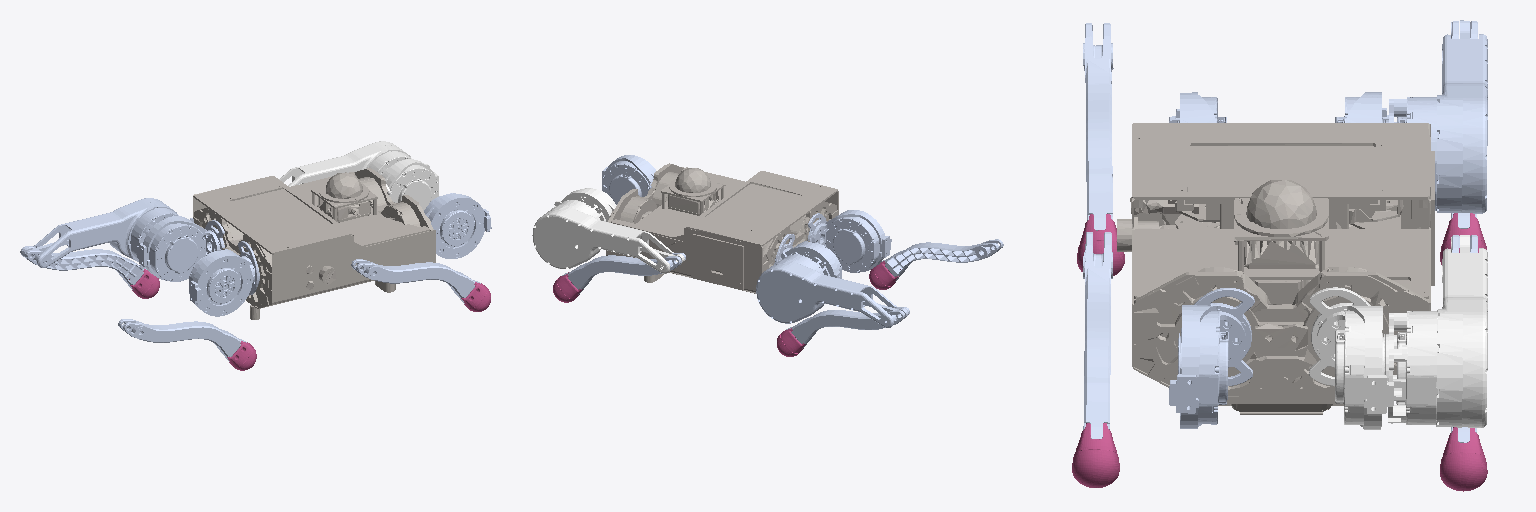
The robot description file, URDF, robot "white.SLDASM":
<?xml version="1.0" encoding="utf-8"?>
<!-- This URDF was automatically created by SolidWorks to URDF Exporter! Originally created by Stephen Brawner (brawner@gmail.com) 
     Commit Version: 1.6.0-4-g7f85cfe  Build Version: 1.6.7995.38578
     For more information, please see http://wiki.ros.org/sw_urdf_exporter -->
<robot
  name="white.SLDASM">
  <link
    name="base_link">
    <inertial>
      <origin
        xyz="0.0010530 0.0016701 0.0648869"
        rpy="0 0 0" />
      <mass
        value="6.1866546" />
      <inertia
        ixx="0.0337456"
        ixy="0.0003253"
        ixz="0.0029974"
        iyy="0.0744710"
        iyz="0.0000989"
        izz="0.0915742" />
    </inertial>
    <visual>
      <origin
        xyz="0 0 0"
        rpy="0 0 0" />
      <geometry>
        <mesh
          filename="meshes/base_link.STL" />
      </geometry>
      <material
        name="">
        <color
          rgba="0.776470588235294 0.756862745098039 0.737254901960784 1" />
      </material>
    </visual>
    <collision>
      <origin
        xyz="0 0 0"
        rpy="0 0 0" />
      <geometry>
        <mesh
          filename="meshes/base_link.STL" />
      </geometry>
    </collision>
  </link>
  <link
    name="FR_hip_link">
    <inertial>
      <origin
        xyz="0.0931494 -0.0135031 0.0004711"
        rpy="0 0 0" />
      <mass
        value="0.7306389" />
      <inertia
        ixx="0.0005555"
        ixy="0.0000790"
        ixz="-0.0000028"
        iyy="0.0011581"
        iyz="-0.0000078"
        izz="0.0007923" />
    </inertial>
    <visual>
      <origin
        xyz="0 0 0"
        rpy="0 0 0" />
      <geometry>
        <mesh
          filename="meshes/FR_hip_link.STL" />
      </geometry>
      <material
        name="">
        <color
          rgba="0.86667 0.9098 1 1" />
      </material>
    </visual>
    <collision>
      <origin
        xyz="0 0 0"
        rpy="0 0 0" />
      <geometry>
        <mesh
          filename="meshes/FR_hip_link.STL" />
      </geometry>
    </collision>
  </link>
  <joint
    name="FR_hip_joint"
    type="revolute">
    <origin
      xyz="0.12796 -0.054714 0.057844"
      rpy="0 0 0" />
    <parent
      link="base_link" />
    <child
      link="FR_hip_link" />
    <axis
      xyz="-1 0 0" />
    <limit
      lower="-0.5"
      upper="0.45"
      effort="23.7"
      velocity="30" />
  </joint>
  <link
    name="FR_thigh_link">
    <inertial>
      <origin
        xyz="-0.0304027 0.0032637 0.0817565"
        rpy="0 0 0" />
      <mass
        value="1.2467607" />
      <inertia
        ixx="0.0012543"
        ixy="0.0003927"
        ixz="0.0007287"
        iyy="0.0055865"
        iyz="-0.0000961"
        izz="0.0055776" />
    </inertial>
    <visual>
      <origin
        xyz="0 0 0"
        rpy="0 0 0" />
      <geometry>
        <mesh
          filename="meshes/FR_thigh_link.STL" />
      </geometry>
      <material
        name="">
        <color
          rgba="0.86667 0.9098 1 1" />
      </material>
    </visual>
    <collision>
      <origin
        xyz="0 0 0"
        rpy="0 0 0" />
      <geometry>
        <mesh
          filename="meshes/FR_thigh_link.STL" />
      </geometry>
    </collision>
  </link>
  <joint
    name="FR_thigh_joint"
    type="revolute">
    <origin
      xyz="0.099716 0.001431 0.00042649"
      rpy="1.5505 0 0" />
    <parent
      link="FR_hip_link" />
    <child
      link="FR_thigh_link" />
    <axis
      xyz="0 0 1" />
    <limit
      lower="-0.2"  
      upper="2.2"
      effort="23.7"
      velocity="30" />
  </joint>
  <link
    name="FR_calf_link">
    <inertial>
      <origin
        xyz="0.0842078 -0.0284990 -0.0127665"
        rpy="0 0 0" />
      <mass
        value="0.1522685" />
      <inertia
        ixx="0.0001159"
        ixy="0.0002501"
        ixz="-0.0000023"
        iyy="0.0007045"
        iyz="0.0000004"
        izz="0.0008061" />
    </inertial>
    <visual>
      <origin
        xyz="0 0 0"
        rpy="0 0 0" />
      <geometry>
        <mesh
          filename="meshes/FR_calf_link.STL" />
      </geometry>
      <material
        name="">
        <color
          rgba="0.86667 0.9098 1 1" />
      </material>
    </visual>
    <collision>
      <origin
        xyz="0 0 0"
        rpy="0 0 0" />
      <geometry>
        <mesh
          filename="meshes/FR_calf_link.STL" />
      </geometry>
    </collision>
  </link>
  <joint
    name="FR_calf_joint"
    type="revolute">
    <origin
      xyz="-0.1999162 -0.00030453 0.1159"
      rpy="0 0 0" />
    <parent
      link="FR_thigh_link" />
    <child
      link="FR_calf_link" />
    <axis
      xyz="0 0 -1" />
    <limit
      lower="0"
      upper="1.6"
      effort="27.6"
      velocity="25.7" />
  </joint>
  <link
    name="FL_hip_link">
    <inertial>
      <origin
        xyz="0.0931494 0.0130746 -0.0004511"
        rpy="0 0 0" />
      <mass
        value="0.7306389" />
      <inertia
        ixx="0.0005555"
        ixy="-0.0000790"
        ixz="0.0000019"
        iyy="0.0011582"
        iyz="-0.0000040"
        izz="0.0007922" />
    </inertial>
    <visual>
      <origin
        xyz="0 0 0"
        rpy="0 0 0" />
      <geometry>
        <mesh
          filename="meshes/FL_hip_link.STL" />
      </geometry>
      <material
        name="">
        <color
          rgba="1 1 1 1" />
      </material>
    </visual>
    <collision>
      <origin
        xyz="0 0 0"
        rpy="0 0 0" />
      <geometry>
        <mesh
          filename="meshes/FL_hip_link.STL" />
      </geometry>
    </collision>
  </link>
  <joint
    name="FL_hip_joint"
    type="revolute">
    <origin
      xyz="0.12796 0.055167 0.058275"
      rpy="0 0 0" />
    <parent
      link="base_link" />
    <child
      link="FL_hip_link" />
    <axis
      xyz="1 0 0" />
    <limit
      lower="-0.5"
      upper="0.45"
      effort="23.7"
      velocity="30" />
  </joint>
  <link
    name="FL_thigh_link">
    <inertial>
      <origin
        xyz="-0.039619 -0.0049865 0.08263"
        rpy="0 0 0" />
      <mass
        value="1.2345657" />
      <inertia
        ixx="0.0012490"
        ixy="-0.0003775"
        ixz="0.0007307"
        iyy="0.0054967"
        iyz="0.0000916"
        izz="0.0054849" />
    </inertial>
    <visual>
      <origin
        xyz="0 0 0"
        rpy="0 0 0" />
      <geometry>
        <mesh
          filename="meshes/FL_thigh_link.STL" />
      </geometry>
      <material
        name="">
        <color
          rgba="1 1 1 1" />
      </material>
    </visual>
    <collision>
      <origin
        xyz="0 0 0"
        rpy="0 0 0" />
      <geometry>
        <mesh
          filename="meshes/FL_thigh_link.STL" />
      </geometry>
    </collision>
  </link>
  <joint
    name="FL_thigh_joint"
    type="revolute">
    <origin
      xyz="0.099716 -0.0018591 -0.00056296"
      rpy="-1.5806 0 0" />
    <parent
      link="FL_hip_link" />
    <child
      link="FL_thigh_link" />
    <axis
      xyz="0 0 -1" />
    <limit
      lower="-0.2"
      upper="2.2"
      effort="23.7"
      velocity="30" />
  </joint>
  <link
    name="FL_calf_link">
        <inertial>
      <origin
        xyz="0.0845350 0.0285958 -0.0004998"
        rpy="0 0 0" />
      <mass
        value="0.3025376" />
      <inertia
        ixx="0.0002688"
        ixy="-0.0004978"
        ixz="0.0000000"
        iyy="0.0014403"
        iyz="0.0000000"
        izz="0.0016047" />
    </inertial>
    <visual>
      <origin
        xyz="0 0 0"
        rpy="0 0 0" />
      <geometry>
        <mesh
          filename="meshes/FL_calf_link.STL" />
      </geometry>
      <material
        name="">
        <color
          rgba="0.86667 0.9098 1 1" />
      </material>
    </visual>
    <collision>
      <origin
        xyz="0 0 0"
        rpy="0 0 0" />
      <geometry>
        <mesh
          filename="meshes/FL_calf_link.STL" />
      </geometry>
    </collision>
  </link>
  <joint
    name="FL_calf_joint"
    type="revolute">
    <origin
      xyz="-0.19992 -0.00030453 0.1148"
      rpy="0 0 0" />
    <parent
      link="FL_thigh_link" />
    <child
      link="FL_calf_link" />
    <axis
      xyz="0 0 1" />
    <limit
      lower="0"
      upper="1.6"
      effort="27.6"
      velocity="25.7" />
  </joint>
  <link
    name="RL_hip_link">
    <inertial>
      <origin
        xyz="-0.0932918 0.0135062 0.0000247"
        rpy="0 0 0" />
      <mass
        value="0.7306389" />
      <inertia
        ixx="0.0005555"
        ixy="0.0000776"
        ixz="0.0000002"
        iyy="0.0011596"
        iyz="-0.0000027"
        izz="0.0007935" />
    </inertial>
    <visual>
      <origin
        xyz="0 0 0"
        rpy="0 0 0" />
      <geometry>
        <mesh
          filename="meshes/RL_hip_link.STL" />
      </geometry>
      <material
        name="">
        <color
          rgba="0.86667 0.9098 1 1" />
      </material>
    </visual>
    <collision>
      <origin
        xyz="0 0 0"
        rpy="0 0 0" />
      <geometry>
        <mesh
          filename="meshes/RL_hip_link.STL" />
      </geometry>
    </collision>
  </link>
  <joint
    name="RL_hip_joint"
    type="revolute">
    <origin
      xyz="-0.10064 0.054736 0.057844"
      rpy="0 0 0" />
    <parent
      link="base_link" />
    <child
      link="RL_hip_link" />
    <axis
      xyz="1 0 0" />
    <limit
      lower="-0.5"
      upper="0.45"
      effort="23.7"
      velocity="30" />
  </joint>
  <link
    name="RL_thigh_link">
    <inertial>
      <origin
        xyz="-0.0299452 -0.0010392 -0.1883155"
        rpy="0 0 0" />
      <mass
        value="1.2345657" />
      <inertia
        ixx="0.0012472"
        ixy="0.0003478"
        ixz="-0.0007436"
        iyy="0.0055031"
        iyz="0.0000794"
        izz="0.0054797" />
    </inertial>
    <visual>
      <origin
        xyz="0 0 0"
        rpy="0 0 0" />
      <geometry>
        <mesh
          filename="meshes/RL_thigh_link.STL" />
      </geometry>
      <material
        name="">
        <color
          rgba="0.86667 0.9098 1 1" />
      </material>
    </visual>
    <collision>
      <origin
        xyz="0 0 0"
        rpy="0 0 0" />
      <geometry>
        <mesh
          filename="meshes/RL_thigh_link.STL" />
      </geometry>
    </collision>
  </link>
  <joint
    name="RL_thigh_joint"
    type="revolute">
    <origin
      xyz="-0.099616 -0.10802 -0.00010828"
      rpy="1.5945 0 0" />
    <parent
      link="RL_hip_link" />
    <child
      link="RL_thigh_link" />
    <axis
      xyz="0 0 1" />
    <limit
      lower="-0.1"
      upper="2.2"
      effort="23.7"
      velocity="30" />
  </joint>
  <link
    name="RL_calf_link">
    <inertial>
      <origin
        xyz="0.0844350 -0.0345725 -0.3078581"
        rpy="0 0 0" />
      <mass
        value="0.3025376" />
      <inertia
        ixx="0.0002688"
        ixy="0.0004976"
        ixz="-0.0000150"
        iyy="0.0014404"
        iyz="0.0000049"
        izz="0.0016045" />
    </inertial>
    <visual>
      <origin
        xyz="0 0 0"
        rpy="0 0 0" />
      <geometry>
        <mesh
          filename="meshes/RL_calf_link.STL" />
      </geometry>
      <material
        name="">
        <color
          rgba="0.86667 0.9098 1 1" />
      </material>
    </visual>
    <collision>
      <origin
        xyz="0 0 0"
        rpy="0 0 0" />
      <geometry>
        <mesh
          filename="meshes/RL_calf_link.STL" />
      </geometry>
    </collision>
  </link>
  <joint
    name="RL_calf_joint"
    type="revolute">
    <origin
      xyz="-0.20008 0.00030453 0.0879"
      rpy="0 0 0" />
    <parent
      link="RL_thigh_link" />
    <child
      link="RL_calf_link" />
    <axis
      xyz="0 0 -1" />
    <limit
      lower="0"
      upper="1.6"
      effort="27.6"
      velocity="25.7" />
  </joint>
  <link
    name="RR_hip_link">
    <inertial>
      <origin
        xyz="-0.0930399 -0.0130709 -0.0006344"
        rpy="0 0 0" />
      <mass
        value="0.7306389" />
      <inertia
        ixx="0.0005555"
        ixy="-0.0000787"
        ixz="-0.0000030"
        iyy="0.0011560"
        iyz="0.0000090"
        izz="0.0007903" />
    </inertial>
    <visual>
      <origin
        xyz="0 0 0"
        rpy="0 0 0" />
      <geometry>
        <mesh
          filename="meshes/RR_hip_link.STL" />
      </geometry>
      <material
        name="">
        <color
          rgba="0.86667 0.9098 1 1" />
      </material>
    </visual>
    <collision>
      <origin
        xyz="0 0 0"
        rpy="0 0 0" />
      <geometry>
        <mesh
          filename="meshes/RR_hip_link.STL" />
      </geometry>
    </collision>
  </link>
  <joint
    name="RR_hip_joint"
    type="revolute">
    <origin
      xyz="-0.10064 -0.055145 0.058275"
      rpy="0 0 0" />
    <parent
      link="base_link" />
    <child
      link="RR_hip_link" />
    <axis
      xyz="-1 0 0" />
    <limit
      lower="-0.5"
      upper="0.45"
      effort="23.7"
      velocity="30" />
  </joint>
  <link
    name="RR_thigh_link">
    <inertial>
      <origin
        xyz="-0.0302807 -0.0022897 -0.1884243"
        rpy="0 0 0" />
      <mass
        value="1.2467607" />
      <inertia
        ixx="0.0012514"
        ixy="-0.0003635"
        ixz="-0.0007396"
        iyy="0.0055918"
        iyz="-0.0000806"
        izz="0.0055723" />
    </inertial>
    <visual>
      <origin
        xyz="0 0 0"
        rpy="0 0 0" />
      <geometry>
        <mesh
          filename="meshes/RR_thigh_link.STL" />
      </geometry>
      <material
        name="">
        <color
          rgba="1 1 1 1" />
      </material>
    </visual>
    <collision>
      <origin
        xyz="0 0 0"
        rpy="0 0 0" />
      <geometry>
        <mesh
          filename="meshes/RR_thigh_link.STL" />
      </geometry>
    </collision>
  </link>
  <joint
    name="RR_thigh_joint"
    type="revolute">
    <origin
      xyz="-0.099884 0.10845 -0.00056871"
      rpy="-1.5708 0 0" />
    <parent
      link="RR_hip_link" />
    <child
      link="RR_thigh_link" />
    <axis
      xyz="0 -0.006426 -0.99998" />
    <limit
      lower="-0.1"
      upper="2.2"
      effort="23.7"
      velocity="30" />
  </joint>
  <link
    name="RR_calf_link">
        <inertial>
      <origin
        xyz="0.0843078 0.0322450 -0.3247279"
        rpy="0 0 0" />
      <mass
        value="0.1522686" />
      <inertia
        ixx="0.0001159"
        ixy="-0.0002500"
        ixz="-0.0000052"
        iyy="0.0007045"
        iyz="-0.0000027"
        izz="0.0008061" />
    </inertial>
    <visual>
      <origin
        xyz="0 0 0"
        rpy="0 0 0" />
      <geometry>
        <mesh
          filename="meshes/RR_calf_link.STL" />
      </geometry>
      <material
        name="">
        <color
          rgba="0.86667 0.9098 1 1" />
      </material>
    </visual>
    <collision>
      <origin
        xyz="0 0 0"
        rpy="0 0 0" />
      <geometry>
        <mesh
          filename="meshes/RR_calf_link.STL" />
      </geometry>
    </collision>
  </link>
  <joint
    name="RR_calf_joint"
    type="revolute">
    <origin
      xyz="-0.19992 0.0004397 0.1159"
      rpy="-0.0064261 0 0" />
    <parent
      link="RR_thigh_link" />
    <child
      link="RR_calf_link" />
    <axis
      xyz="0 0 1" />
    <limit
      lower="0"
      upper="1.6"
      effort="27.6"
      velocity="25.7" />
  </joint>
  <link
    name="FR_toe_link">
    <inertial>
      <origin
        xyz="-0.0123860505147512 0.000456648613375327 0.00967494848412119"
        rpy="0 0 0" />
      <mass
        value="0.0495450118181645" />
      <inertia
        ixx="1.05300403015409E-05"
        ixy="-6.13483508873057E-08"
        ixz="-2.57407656381207E-07"
        iyy="1.22062426260108E-05"
        iyz="1.10904644871756E-07"
        izz="1.05815682140614E-05" />
    </inertial>
    <visual>
      <origin
        xyz="0 0 0"
        rpy="0 0 0" />
      <geometry>
        <mesh
          filename="meshes/FR_toe_link.STL" />
      </geometry>
      <material
        name="">
        <color
          rgba="0.8 0.4 0.6 1" />
      </material>
    </visual>
    <collision>
      <origin
        xyz="0 0 0"
        rpy="0 0 0" />
      <geometry>
        <mesh
          filename="meshes/FR_toe_link.STL" />
      </geometry>
    </collision>
  </link>
  <joint
    name="FR_toe_joint"
    type="fixed">
    <origin
      xyz="0.205893186594791 -0.101424193234286 -0.0138172539821407"
      rpy="-1.55051372259956 0 0" />
    <parent
      link="FR_calf_link" />
    <child
      link="FR_toe_link" />
    <axis
      xyz="1 0 0" />
  </joint>
  <link
    name="FL_toe_link">
    <inertial>
      <origin
        xyz="-0.0123860372360787 0.000355259222740684 0.00967919624869322"
        rpy="0 0 0" />
      <mass
        value="0.0495449845699964" />
      <inertia
        ixx="1.05300351338169E-05"
        ixy="-5.86413768870498E-08"
        ixz="-2.58028426155988E-07"
        iyy="1.22083775796852E-05"
        iyz="9.38572834648076E-08"
        izz="1.0579417108538E-05" />
    </inertial>
    <visual>
      <origin
        xyz="0 0 0"
        rpy="0 0 0" />
      <geometry>
        <mesh
          filename="meshes/FL_toe_link.STL" />
      </geometry>
      <material
        name="">
        <color
          rgba="0.8 0.4 0.6 1" />
      </material>
    </visual>
    <collision>
      <origin
        xyz="0 0 0"
        rpy="0 0 0" />
      <geometry>
        <mesh
          filename="meshes/FL_toe_link.STL" />
      </geometry>
    </collision>
  </link>
  <joint
    name="FL_toe_joint"
    type="fixed">
    <origin
      xyz="0.205893186594791 0.101424193234286 -0.0131827460178593"
      rpy="1.58060218618286 0 0" />
    <parent
      link="FL_calf_link" />
    <child
      link="FL_toe_link" />
    <axis
      xyz="1 0 0" />
  </joint>
  <link
    name="RL_toe_link">
    <inertial>
      <origin
        xyz="-0.0123860240329527 0.000322510837668322 0.00968036077338845"
        rpy="0 0 0" />
      <mass
        value="0.0495450265856854" />
      <inertia
        ixx="1.05300428455113E-05"
        ixy="-5.7771062281467E-08"
        ixz="-2.58212304360286E-07"
        iyy="1.22090280271667E-05"
        iyz="8.83076180276703E-08"
        izz="1.05788074865683E-05" />
    </inertial>
    <visual>
      <origin
        xyz="0 0 0"
        rpy="0 0 0" />
      <geometry>
        <mesh
          filename="meshes/RL_toe_link.STL" />
      </geometry>
      <material
        name="">
        <color
          rgba="0.8 0.4 0.6 1" />
      </material>
    </visual>
    <collision>
      <origin
        xyz="0 0 0"
        rpy="0 0 0" />
      <geometry>
        <mesh
          filename="meshes/RL_toe_link.STL" />
      </geometry>
    </collision>
  </link>
  <joint
    name="RL_toe_joint"
    type="fixed">
    <origin
      xyz="0.205783989505775 -0.106994483479941 -0.292989723773869"
      rpy="-1.59445906451377 0 0" />
    <parent
      link="RL_calf_link" />
    <child
      link="RL_toe_link" />
    <axis
      xyz="1 0 0" />
  </joint>
  <link
    name="RR_toe_link">
    <inertial>
      <origin
        xyz="-0.0123860457462059 3.11701284017168E-05 0.00968568118178008"
        rpy="0 0 0" />
      <mass
        value="0.0495450172272367" />
      <inertia
        ixx="1.0530052676567E-05"
        ixy="-4.99750377794138E-08"
        ixz="-2.59853063253888E-07"
        iyy="1.22128486249104E-05"
        iyz="3.9170441930419E-08"
        izz="1.05749718747068E-05" />
    </inertial>
    <visual>
      <origin
        xyz="0 0 0"
        rpy="0 0 0" />
      <geometry>
        <mesh
          filename="meshes/RR_toe_link.STL" />
      </geometry>
      <material
        name="">
        <color
          rgba="0.8 0.4 0.6 1" />
      </material>
    </visual>
    <collision>
      <origin
        xyz="0 0 0"
        rpy="0 0 0" />
      <geometry>
        <mesh
          filename="meshes/RR_toe_link.STL" />
      </geometry>
    </collision>
  </link>
  <joint
    name="RR_toe_joint"
    type="fixed">
    <origin
      xyz="0.205983989505774 0.105113778975202 -0.321483512024538"
      rpy="1.57722239893188 0 0" />
    <parent
      link="RR_calf_link" />
    <child
      link="RR_toe_link" />
    <axis
      xyz="1 0 0" />
  </joint>
</robot>

--- Facts derived from the render (not from the file) ---
3 views of the same robot in one strip: view 1: azimuth 30°, elevation 25°; view 2: azimuth 150°, elevation 25°; view 3: azimuth 270°, elevation 25° (orthographic).
Model white.SLDASM with 17 links and 16 joints (12 revolute, 4 fixed), rooted at base_link, posed all joints at 0.
Visible links, largest first — view 1: base_link, RL_thigh_link, RL_hip_link, RR_hip_link, FR_hip_link, FL_thigh_link, RR_calf_link, FR_calf_link, FL_hip_link, RL_calf_link, FR_toe_link, RR_toe_link (+1 smaller); view 2: base_link, RL_thigh_link, FL_thigh_link, RR_hip_link, RR_calf_link, FR_hip_link, FL_calf_link, RL_calf_link, RL_hip_link, FL_hip_link; view 3: base_link, FL_thigh_link, RL_thigh_link, FL_hip_link, FR_hip_link, RR_calf_link, FR_calf_link, FR_toe_link, FL_toe_link, RR_hip_link, RL_hip_link, RR_toe_link (+1 smaller).
Boxes of the visible links, x1,y1,x2,y2 form: base_link: (193, 168, 435, 319); RL_thigh_link: (22, 198, 193, 268); RL_hip_link: (137, 216, 224, 281); RR_hip_link: (189, 241, 259, 316); FR_hip_link: (424, 193, 491, 258); FL_thigh_link: (279, 141, 429, 186); RR_calf_link: (118, 319, 246, 361); FR_calf_link: (351, 259, 480, 303); FL_hip_link: (382, 159, 438, 210); RL_calf_link: (20, 246, 146, 290); FR_toe_link: (461, 282, 490, 311); RR_toe_link: (227, 341, 256, 370); base_link: (606, 163, 838, 293); RL_thigh_link: (756, 252, 908, 327); FL_thigh_link: (532, 200, 684, 273); RR_hip_link: (807, 210, 891, 272); RR_calf_link: (882, 239, 1003, 281); FR_hip_link: (602, 155, 655, 204); FL_calf_link: (562, 253, 685, 294); RL_calf_link: (786, 307, 909, 348); RL_hip_link: (774, 234, 841, 278); FL_hip_link: (554, 188, 616, 221); base_link: (1117, 123, 1434, 414); FL_thigh_link: (1385, 235, 1487, 427); RL_thigh_link: (1385, 20, 1487, 213); FL_hip_link: (1309, 287, 1393, 429); FR_hip_link: (1169, 288, 1254, 428); RR_calf_link: (1083, 23, 1113, 230); FR_calf_link: (1083, 232, 1112, 438); FR_toe_link: (1072, 423, 1119, 487); FL_toe_link: (1440, 427, 1487, 491); RR_hip_link: (1169, 92, 1226, 122); RL_hip_link: (1335, 92, 1388, 122); RR_toe_link: (1077, 214, 1124, 275).
Size in the robot's own frame: 0.7147 by 0.3522 by 0.2166 metres.
15 mesh visuals loaded from 17 distinct referenced files (15 binary STL); not drawn: 2 (reference not matched to a file when rendering).
